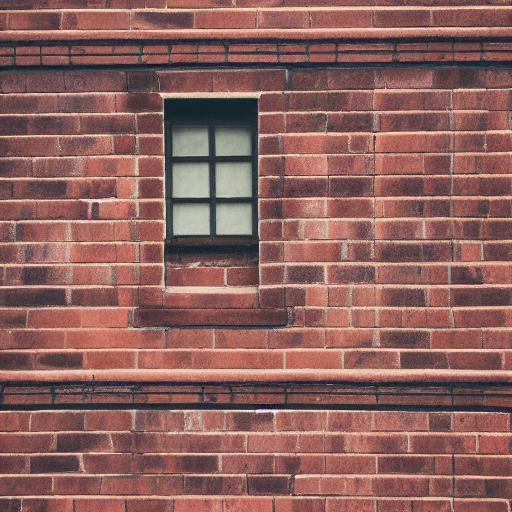Window: (135, 70, 286, 327)
